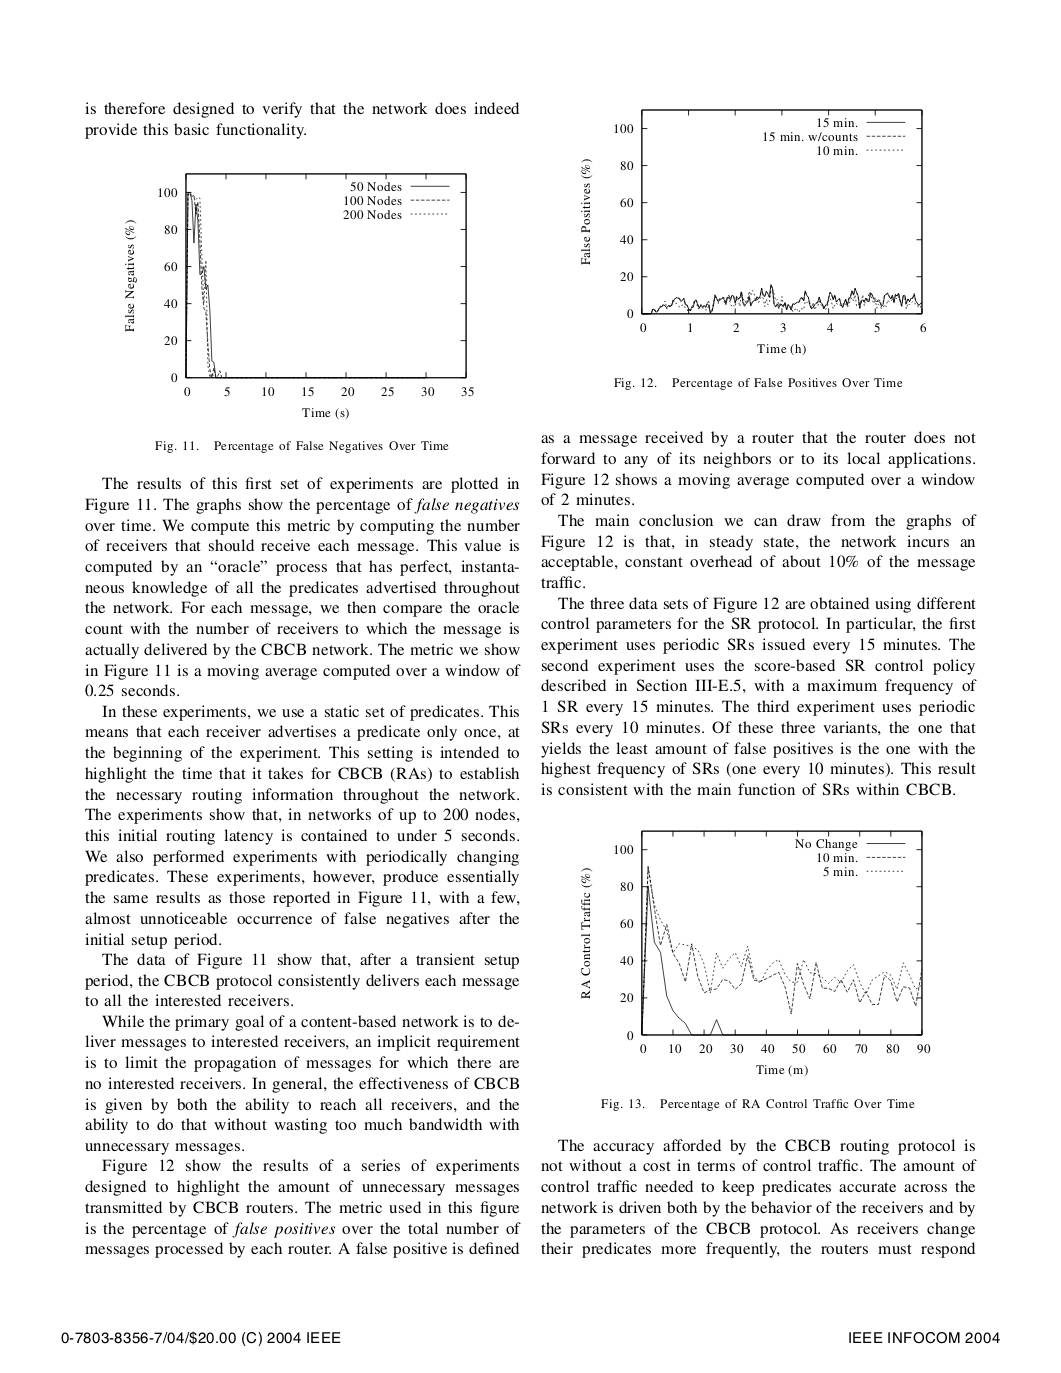figure: (581, 830, 929, 1077), (125, 173, 473, 419), (581, 109, 925, 356)
